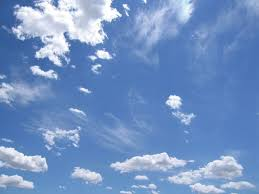sky: (1, 1, 259, 192)
